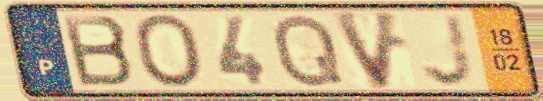4: (215, 13, 271, 88)
B: (58, 12, 138, 89)
J: (419, 12, 478, 89)
O: (130, 11, 208, 90)
Q: (270, 11, 348, 91)
V: (328, 8, 403, 94)
